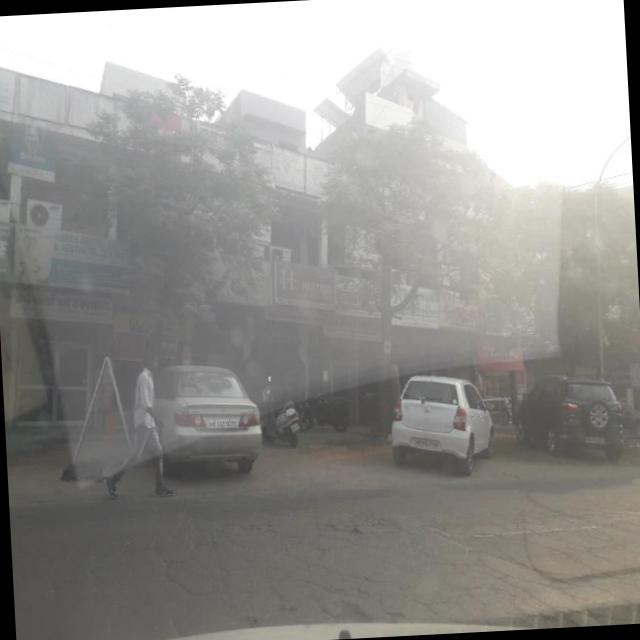crack: (140, 486, 630, 628)
